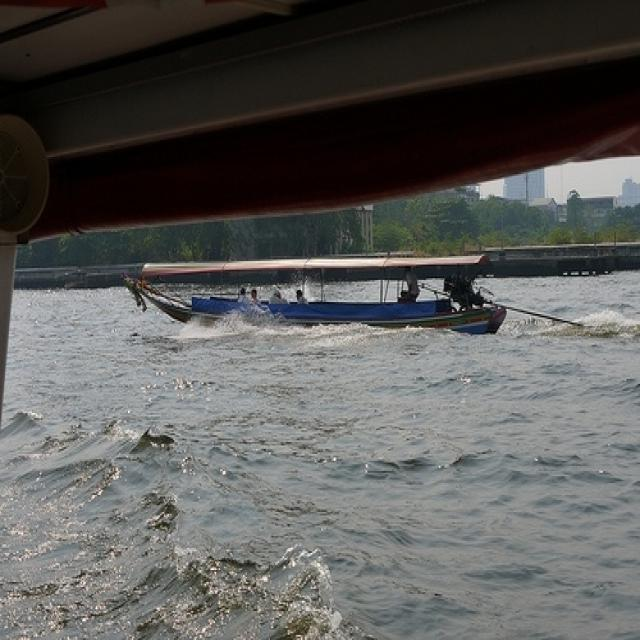boat: (112, 259, 506, 338)
